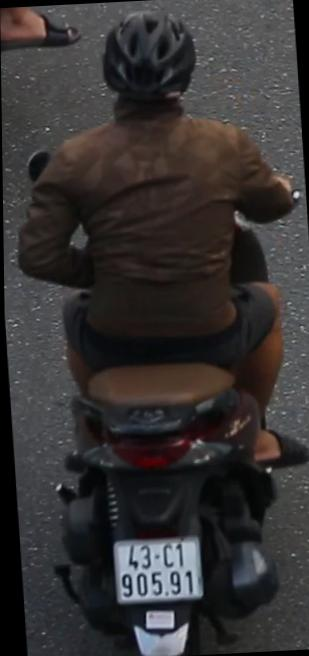LP: (101, 526, 206, 606)
helmet: (96, 1, 202, 126)
